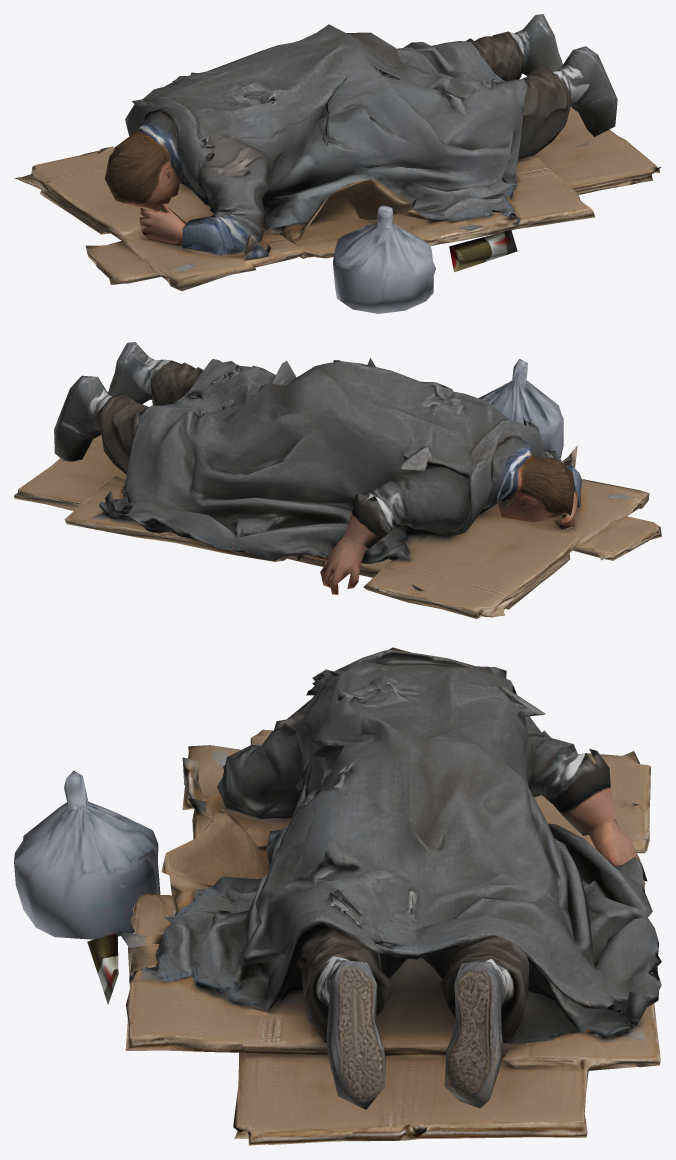
The model's file is vagabundo.glb.
3 views of the same model, one above another, from view 1: azimuth 30°, elevation 25°; view 2: azimuth 150°, elevation 25°; view 3: azimuth 270°, elevation 25° (orthographic). The views are drawn at different scales.
Parts seen in each view (by area): view 1: tripo_node_13ccc62c-3d08-4774-b6ba-9745482a6f64; view 2: tripo_node_13ccc62c-3d08-4774-b6ba-9745482a6f64; view 3: tripo_node_13ccc62c-3d08-4774-b6ba-9745482a6f64.
Boxes of the visible parts, bbox=[...] form: tripo_node_13ccc62c-3d08-4774-b6ba-9745482a6f64: bbox=[14, 14, 660, 313]; tripo_node_13ccc62c-3d08-4774-b6ba-9745482a6f64: bbox=[14, 342, 661, 618]; tripo_node_13ccc62c-3d08-4774-b6ba-9745482a6f64: bbox=[14, 647, 661, 1145].
Bounding box in the file's own units: 0.9821 × 0.2758 × 0.6992.
1 material, 1 textured.
